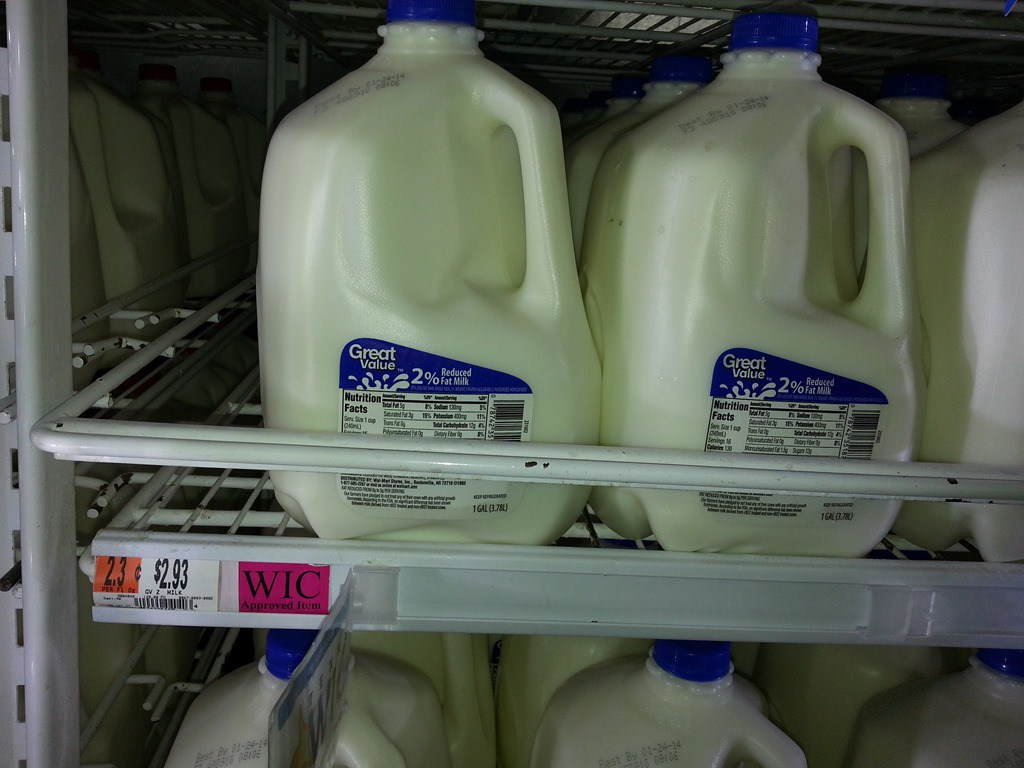milk: (255, 6, 602, 540), (598, 31, 918, 563), (938, 44, 1024, 488), (540, 657, 823, 768), (184, 647, 425, 768), (851, 658, 1024, 755)
